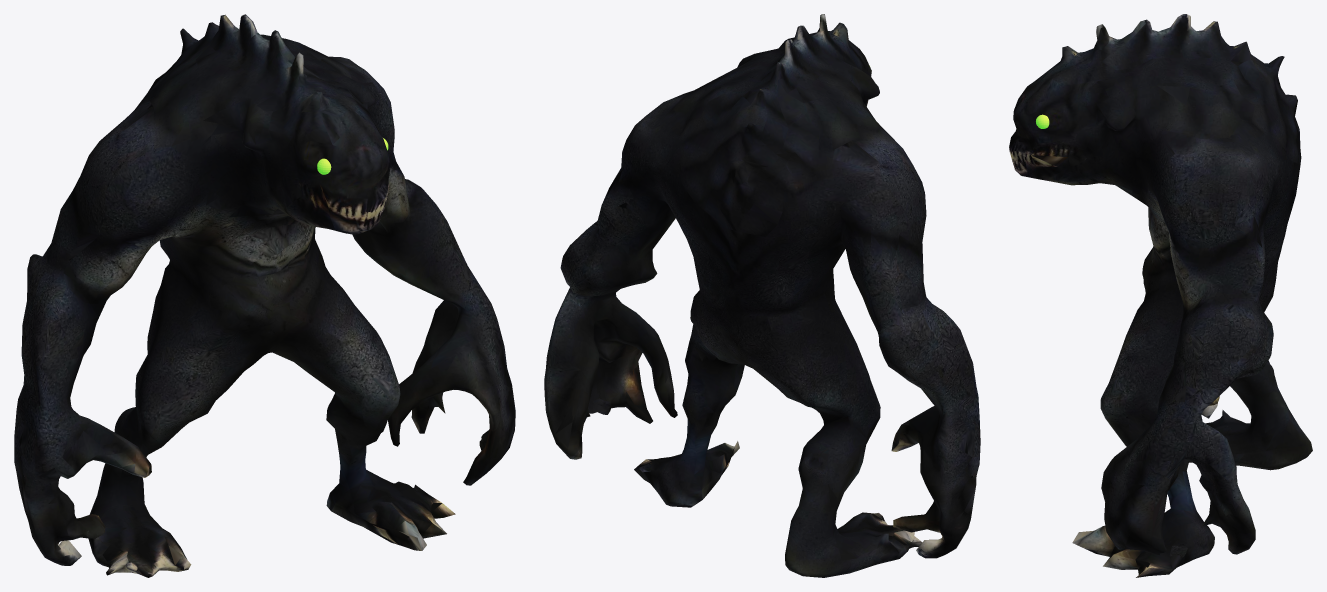
The model's file is monster_with_glowing_eyes.glb.
3 views of the same model, side by side, from view 1: azimuth 30°, elevation 25°; view 2: azimuth 150°, elevation 25°; view 3: azimuth 270°, elevation 25° (orthographic). The views are drawn at different scales.
Parts seen in each view (by area): view 1: monster; view 2: monster; view 3: monster.
Boxes of the visible parts, x1,y1,x2,y2 form: monster: (14, 14, 515, 577); monster: (544, 14, 980, 577); monster: (1009, 14, 1312, 577).
Size of the model in its own units: 0.904 by 1 by 0.5644.
Materials: 2 (1 with a texture image).
